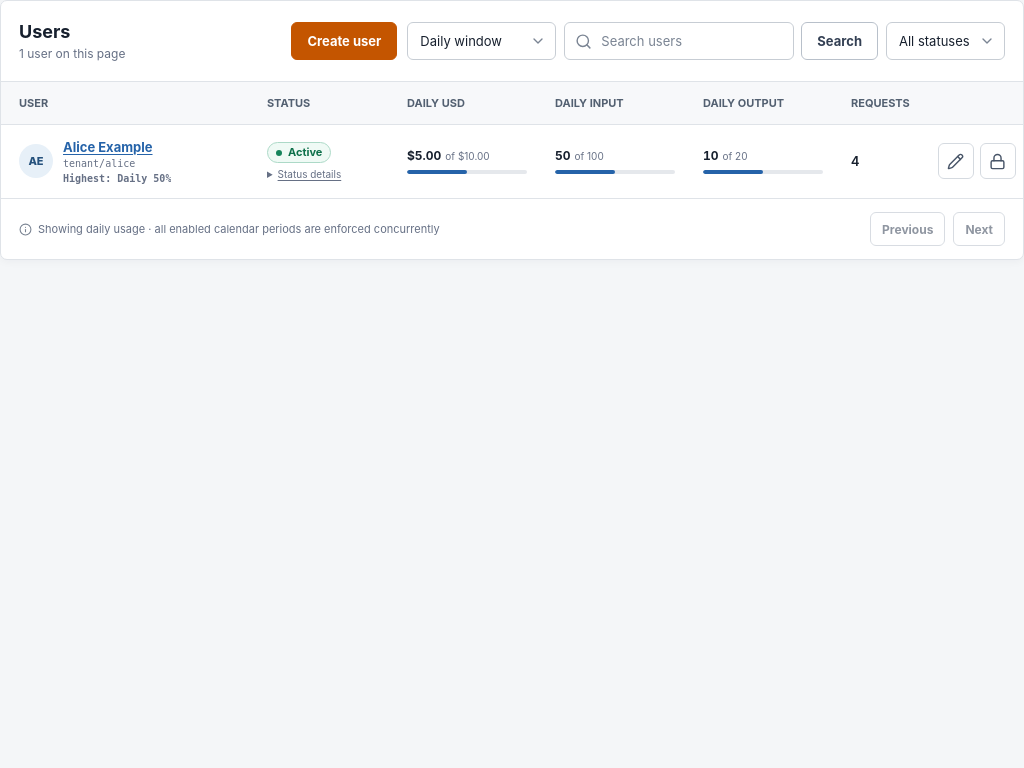
Test: status safety dialog › keeps the confirmation open when a version conflict leaves the status direction unchanged
Click the button named "Block Alice Example": click(998, 161) left=980, top=143, right=1016, bottom=179
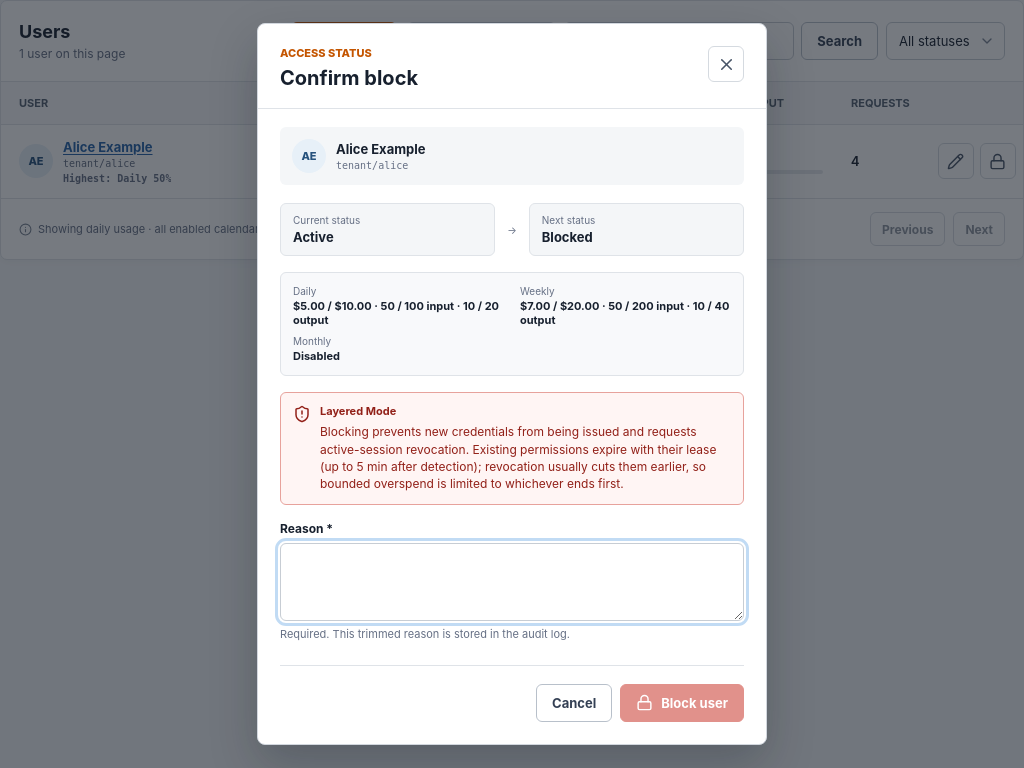
In the text box labelled "Reason *": (512, 582) left=280, top=543, right=744, bottom=621, type "Policy request"
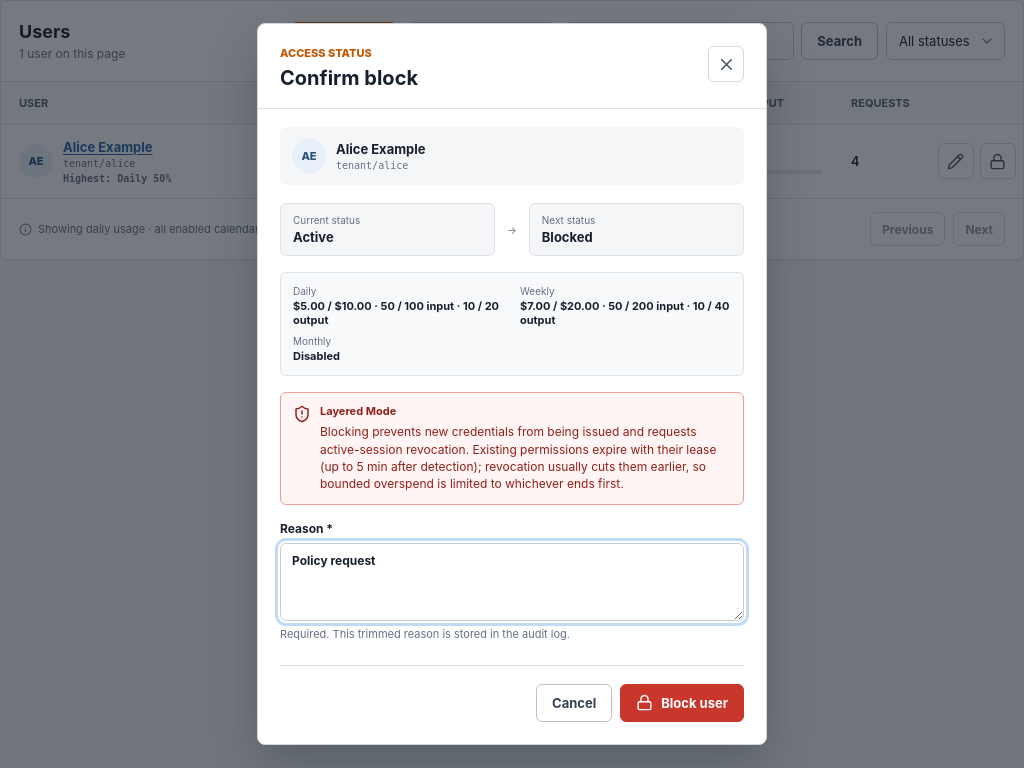
Click the button "Block user": click(682, 703) left=620, top=684, right=744, bottom=722
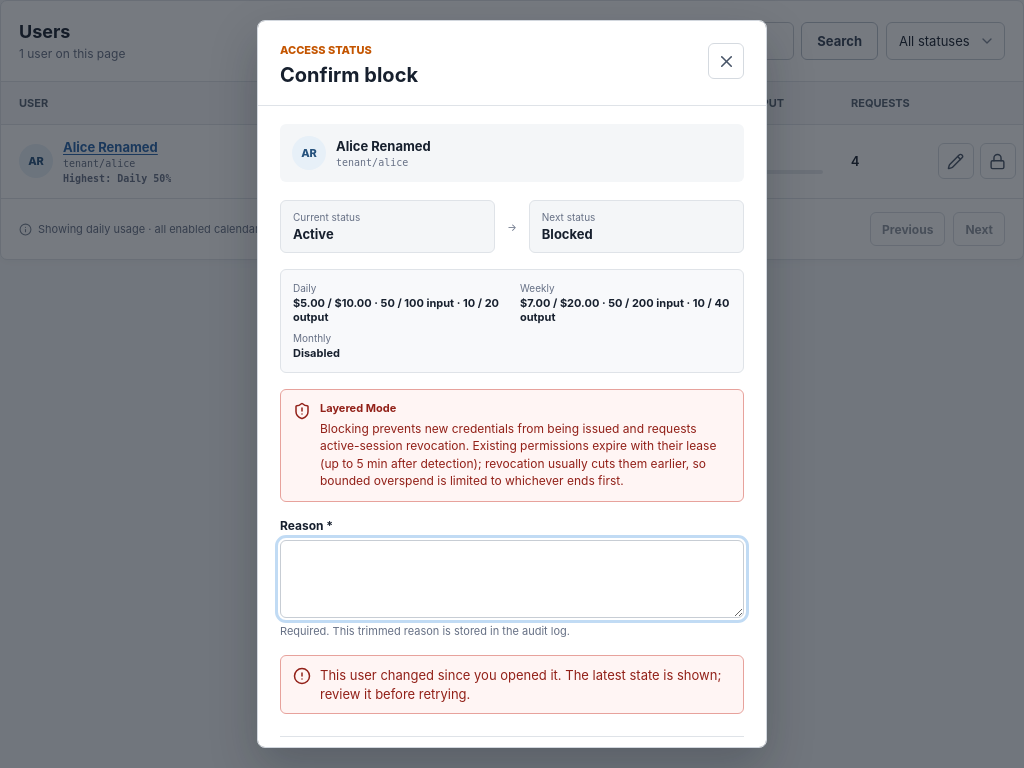
Result: the text "Alice Renamed" is shown at left=336, top=138, right=431, bottom=154
Result: the message shows "changed since you opened it" at left=320, top=667, right=721, bottom=702
